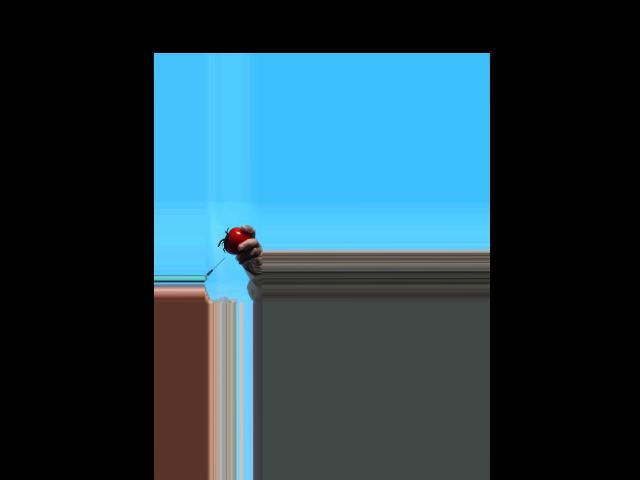tomato: (224, 226, 251, 254)
